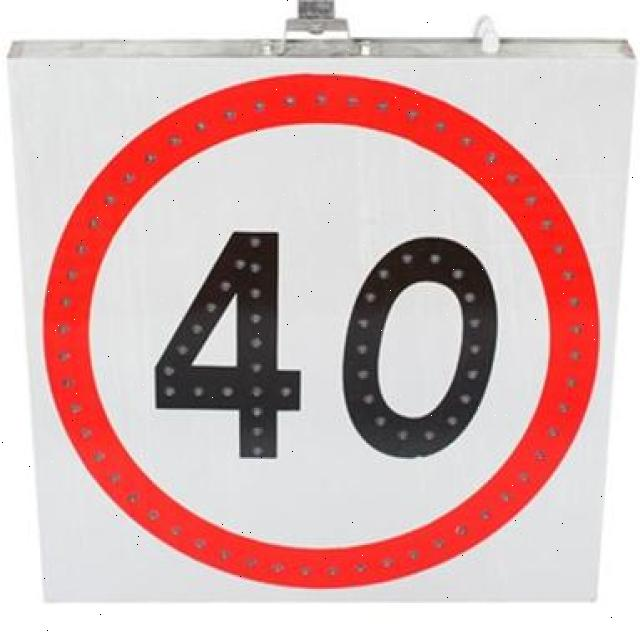speed limit 40: (45, 74, 600, 590)
